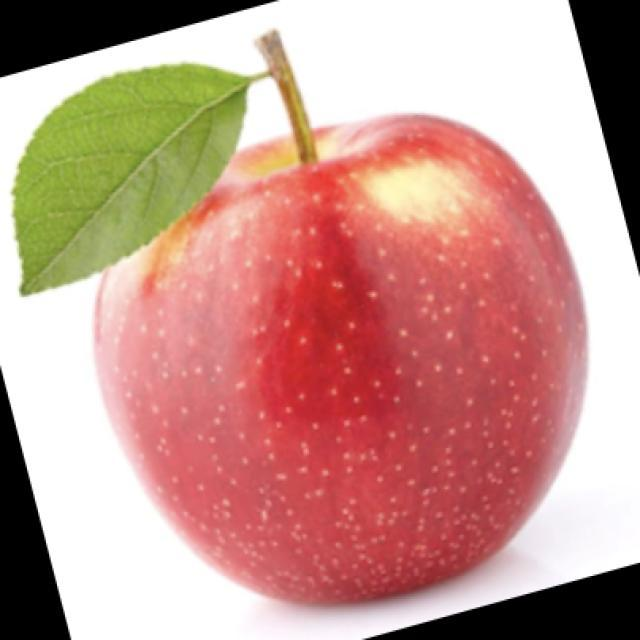Apple: (91, 28, 589, 606)
